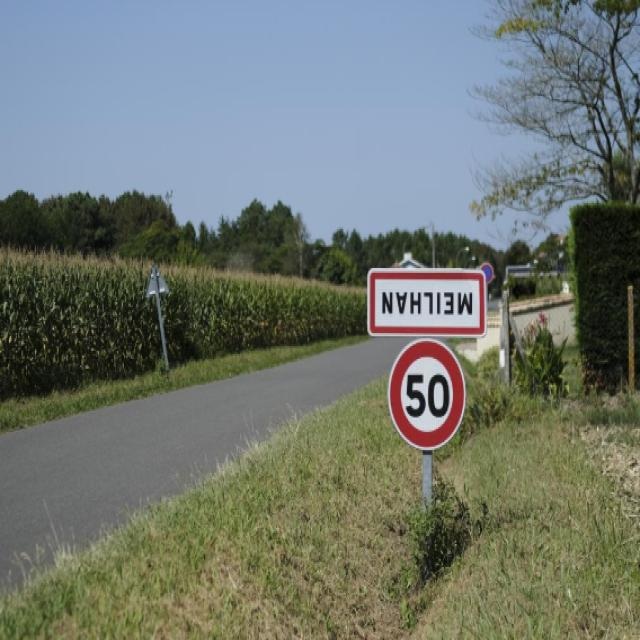speed_50: (388, 336, 466, 451)
